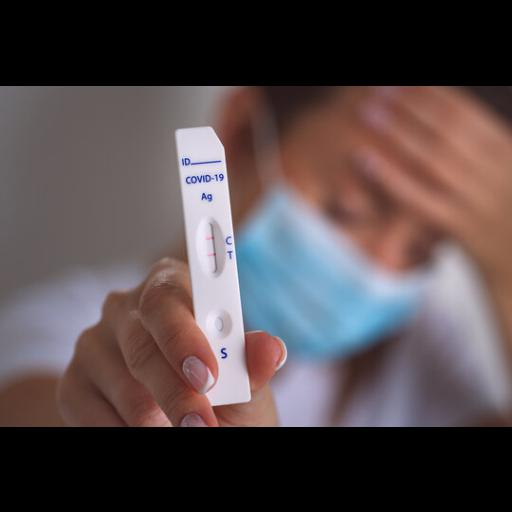Pos: (174, 123, 251, 405)
